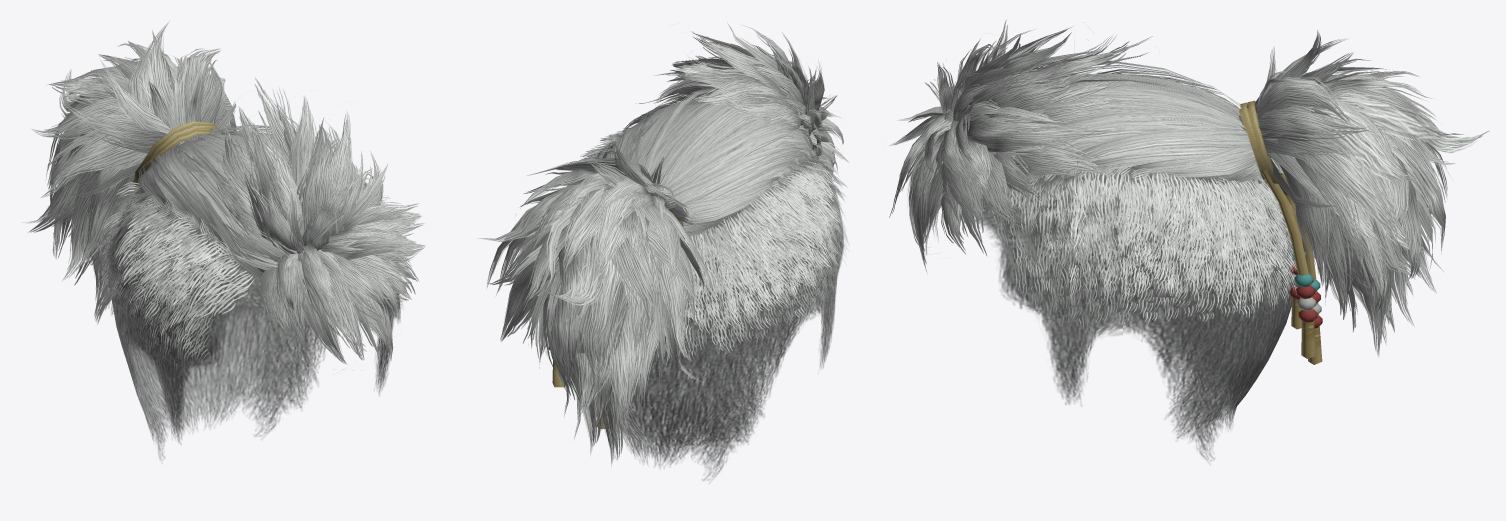
File: hair013.glb
3 views of the same model, side by side, from view 1: azimuth 30°, elevation 25°; view 2: azimuth 150°, elevation 25°; view 3: azimuth 270°, elevation 25° (orthographic). The views are drawn at different scales.
Parts seen in each view (by area): view 1: hair2, scalp, hair, tie; view 2: hair2, scalp, hair; view 3: hair2, scalp, hair, tie.
Boxes of the visible parts, <box> form: hair2: <box>22,21,425,369</box>; scalp: <box>108,189,400,460</box>; hair: <box>94,170,406,370</box>; tie: <box>135,121,222,190</box>; hair2: <box>477,22,849,465</box>; scalp: <box>606,148,843,482</box>; hair: <box>562,114,849,361</box>; hair2: <box>889,19,1489,356</box>; scalp: <box>972,165,1293,464</box>; hair: <box>991,158,1297,328</box>; tie: <box>1238,100,1322,364</box>.
Size of the model in its own units: 0.1427 by 0.2259 by 0.274.
2 materials, 2 textured.
